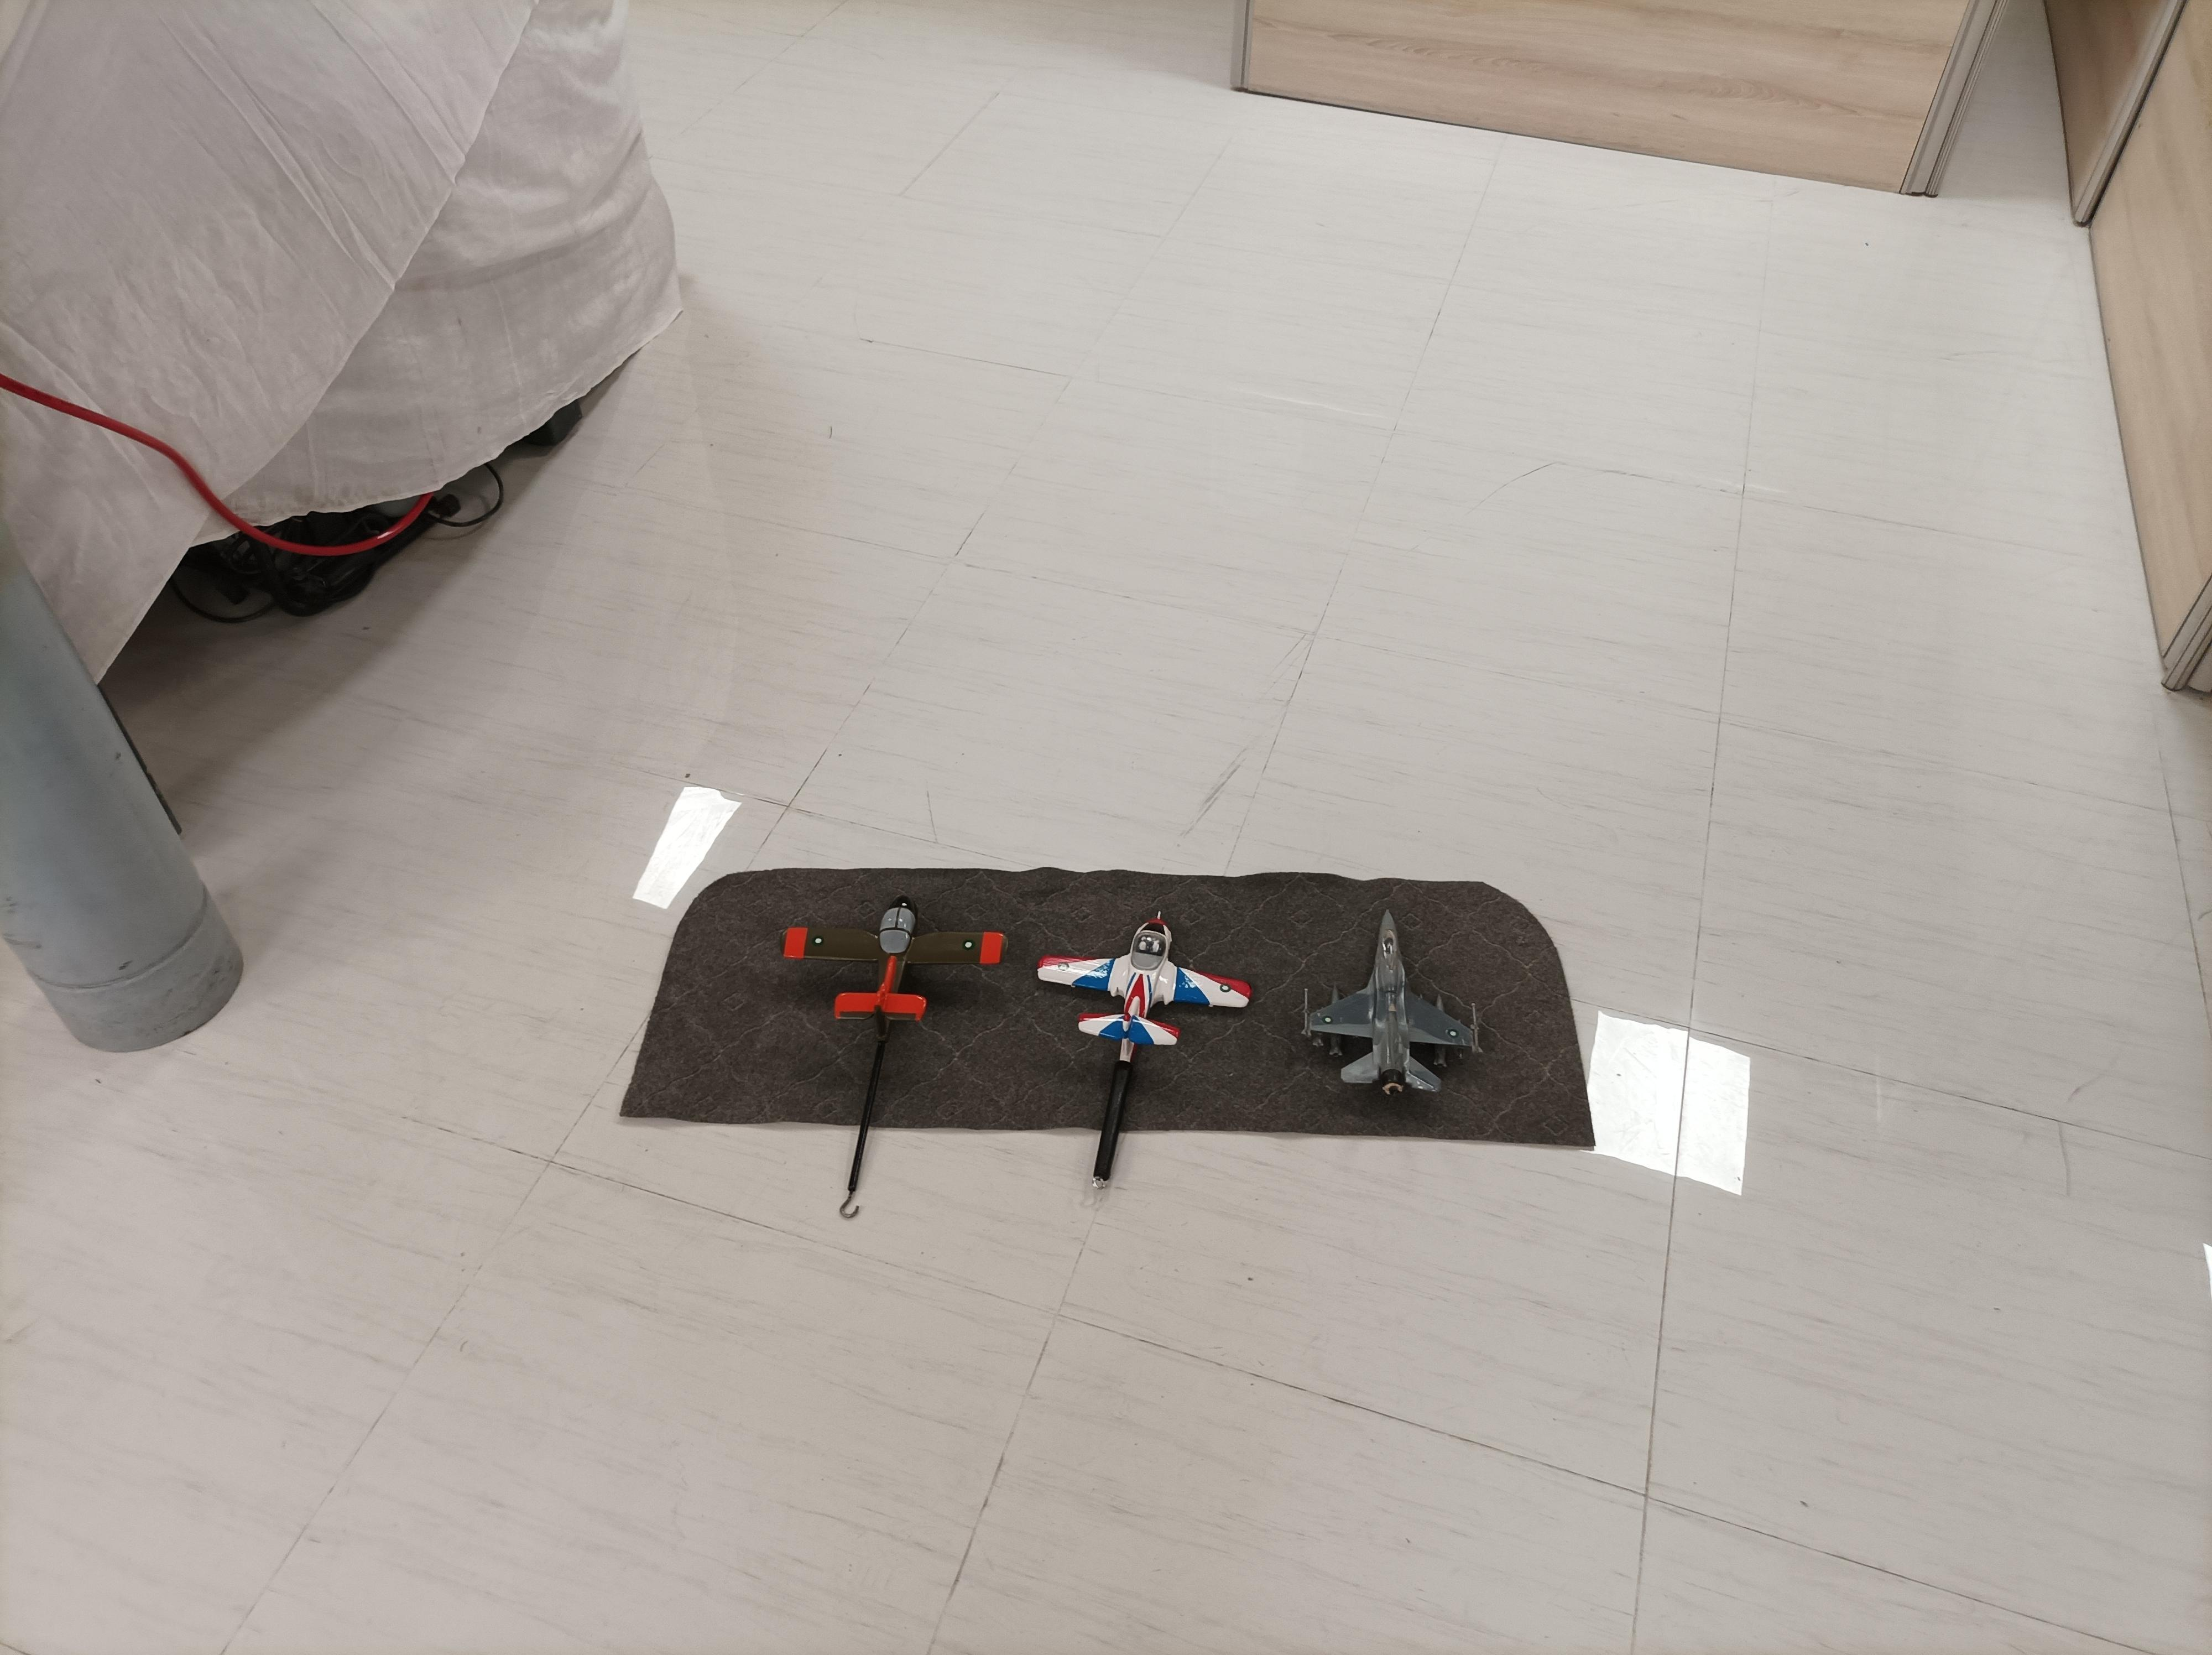Airplane: (1287, 901, 1496, 1110), (766, 877, 1016, 1041), (1032, 899, 1264, 1069)
